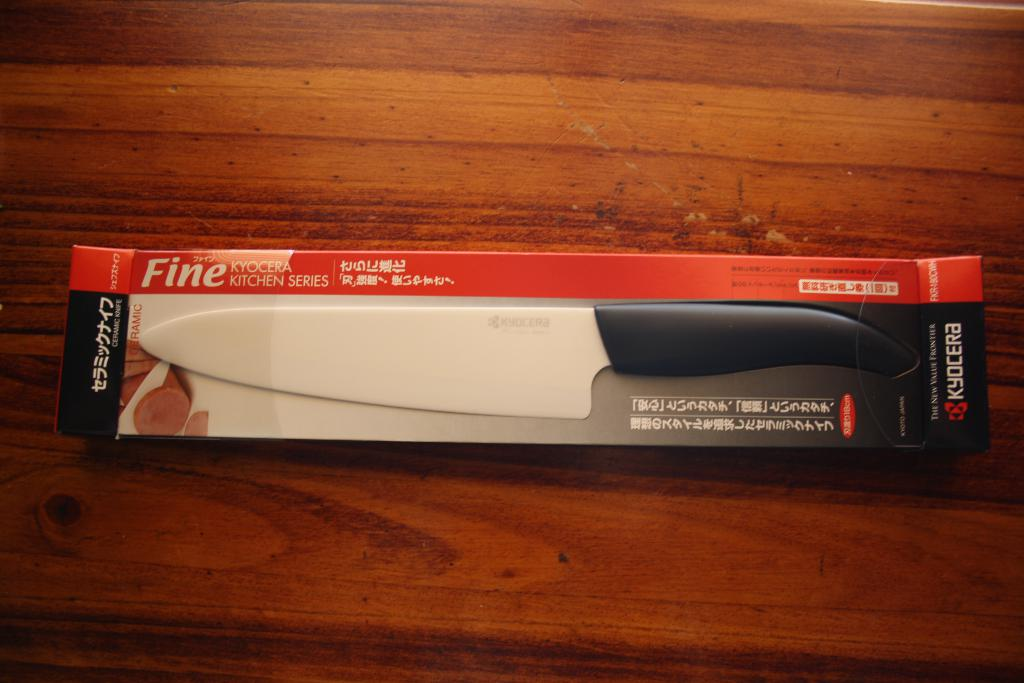kitchen knife: (138, 300, 920, 419)
